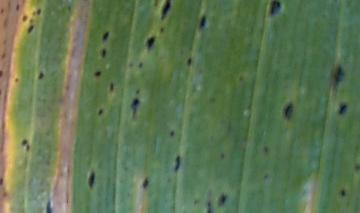tarspot: (332, 63, 343, 95), (280, 103, 293, 121), (269, 1, 282, 18), (161, 1, 172, 20), (86, 170, 97, 189), (198, 14, 207, 32), (173, 155, 181, 173), (44, 199, 54, 213), (205, 197, 213, 213), (147, 37, 156, 51), (132, 98, 138, 118), (340, 101, 348, 115), (218, 194, 227, 205), (142, 177, 150, 189), (262, 172, 271, 182), (27, 24, 35, 34), (101, 31, 109, 41), (100, 48, 107, 58), (263, 145, 270, 154), (37, 72, 45, 79), (35, 8, 42, 16), (94, 70, 102, 77), (137, 61, 145, 68), (109, 82, 114, 92), (22, 14, 29, 21), (354, 164, 360, 172), (340, 189, 346, 197), (13, 77, 21, 83), (220, 151, 226, 159), (15, 2, 20, 11), (187, 58, 192, 67), (98, 109, 104, 116), (1, 53, 8, 59), (3, 191, 9, 198), (25, 145, 31, 151), (237, 76, 243, 82), (159, 26, 164, 33), (169, 131, 174, 138), (154, 1, 159, 7), (134, 89, 140, 94), (1, 68, 4, 77), (1, 177, 4, 186), (22, 140, 28, 144), (1, 7, 5, 13)
